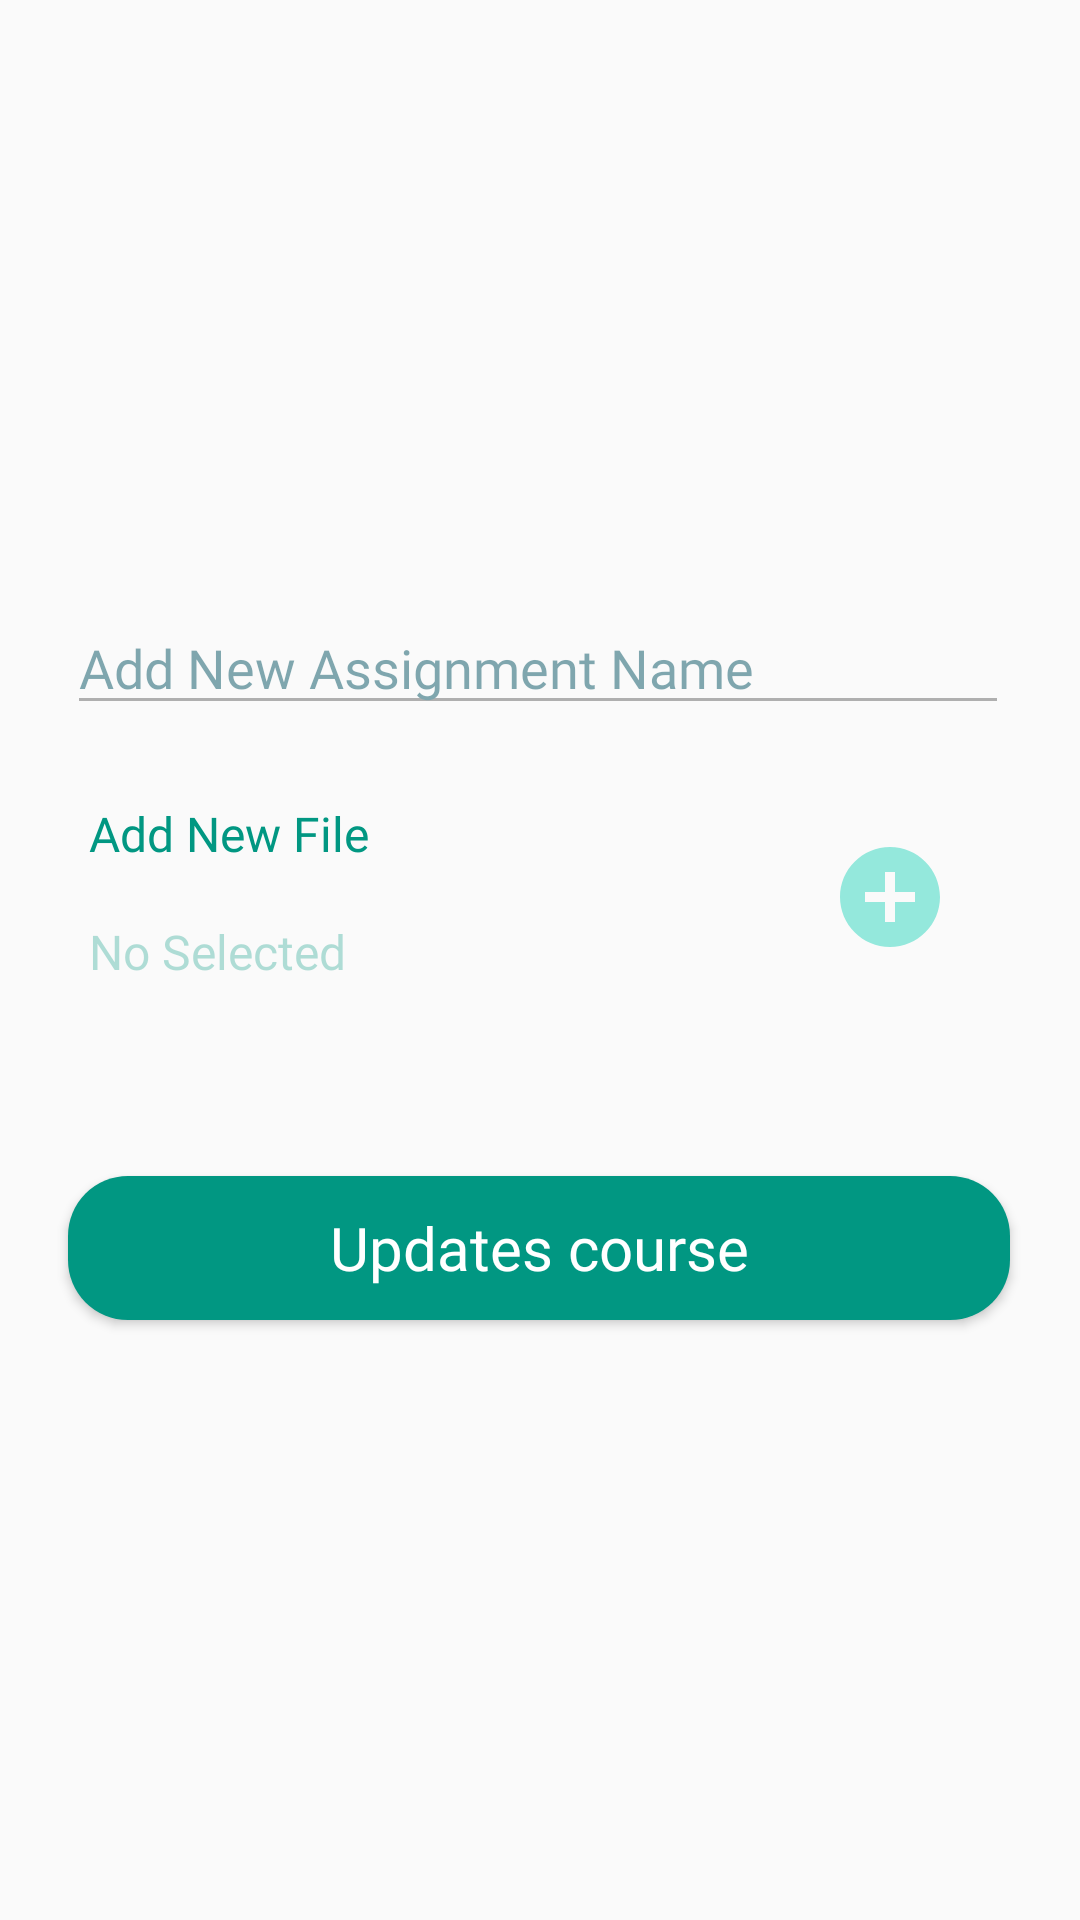

Icons on this 1080×1920 Android screen, each with the point to tap as point (x, y):
add circle: point (890, 897)
